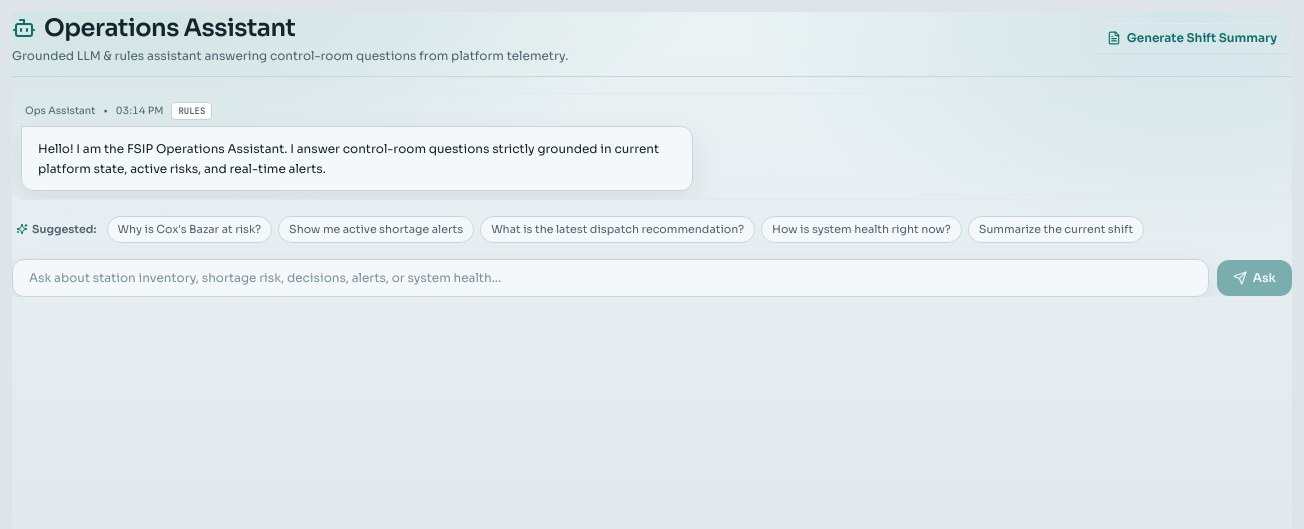
Phase 09 Ops Assistant Page › handles assistant network/server error gracefully without attributing to rules engine
The width and height of the screenshot is (1304, 529).
Replace the text in the field with placeholder "Ask about station inventory" with "Why is Cox's Bazar at risk?" at point(610, 278), box [12,258,1209,296]
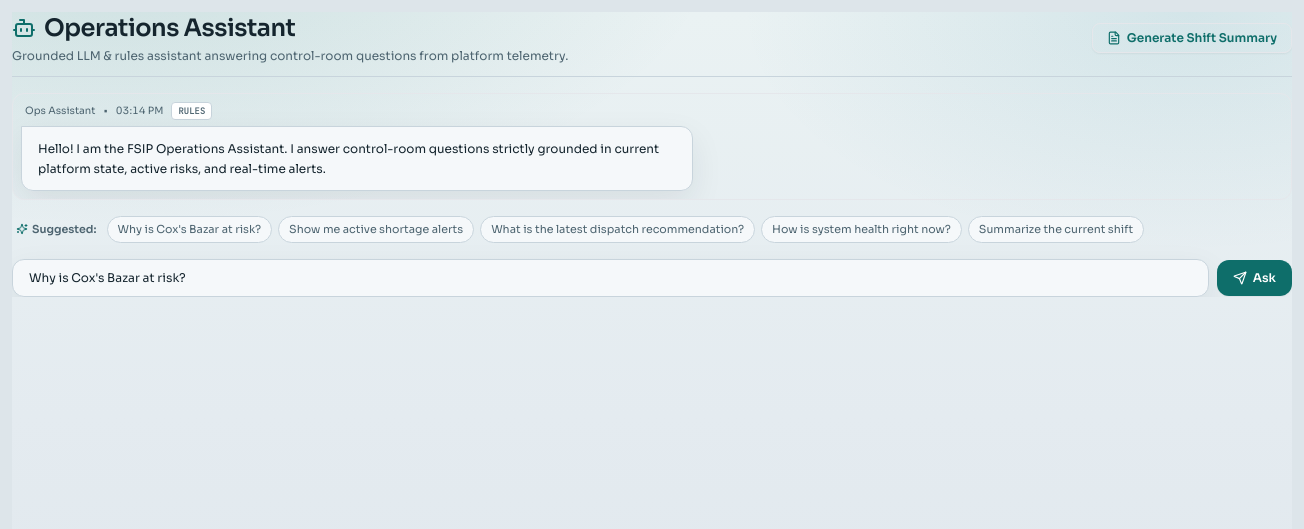
Click the button "Ask" at point(1254, 278), box [1217,260,1292,296]
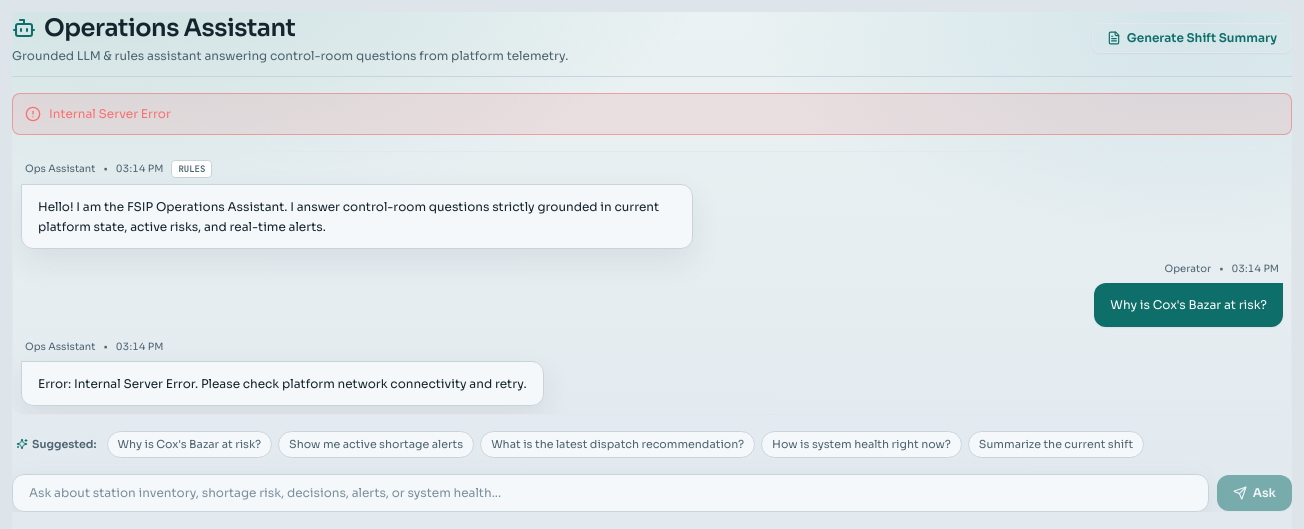
Expected: the text "Please check platform network connectivity and retry" is shown, [38,376,527,390]
